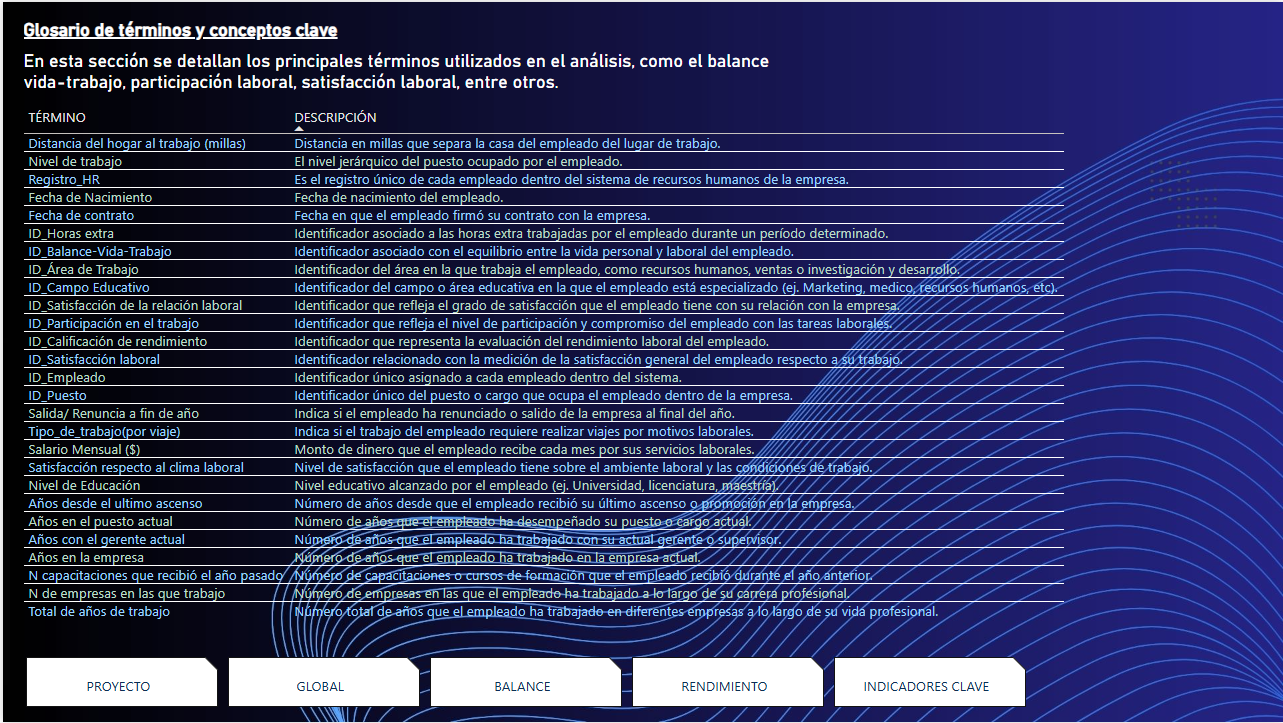

What the dashboard file says about the page in this screenshot:
{"tool":"powerbi","page":{"name":"GLOSARIO","canvas":[1280,720],"ordinal":1},"visuals":[{"type":"tableEx","title":"GLOSARIO","fields":{"Values":["Glosario.TÉRMINO","Glosario.DESCRIPCIÓN"]},"box":[15.3,100.5,1073.7,544],"z":0},{"type":"textbox","title":"Glosario de términos y conceptos clave","box":[15.7,16.9,329.4,30.2],"z":1000},{"type":"textbox","title":"En esta sección se detallan los principales términos utilizados en el análisis, como el balance vida-trabajo, participación laboral, satisfacción laboral, entre otros.","box":[15.7,48.3,761.3,45.8],"z":2000},{"type":"pageNavigator","box":[23.3,655.4,1000.1,49.4],"z":3000}]}

Visuals, with their boxes in screenshot pixels (x1, y1, x2, y2), scaled from the page's 1280x720 canvas onto the 1283x723 screenshot:
"GLOSARIO" tableEx: 15 101 1092 647
"Glosario de términos y conceptos clave" textbox: 16 17 346 47
"En esta sección se detallan los principales términos utilizados en el análisis, como el balance vida-trabajo, participación laboral, satisfacción laboral, entre otros." textbox: 16 49 779 94
pageNavigator: 23 658 1026 708
